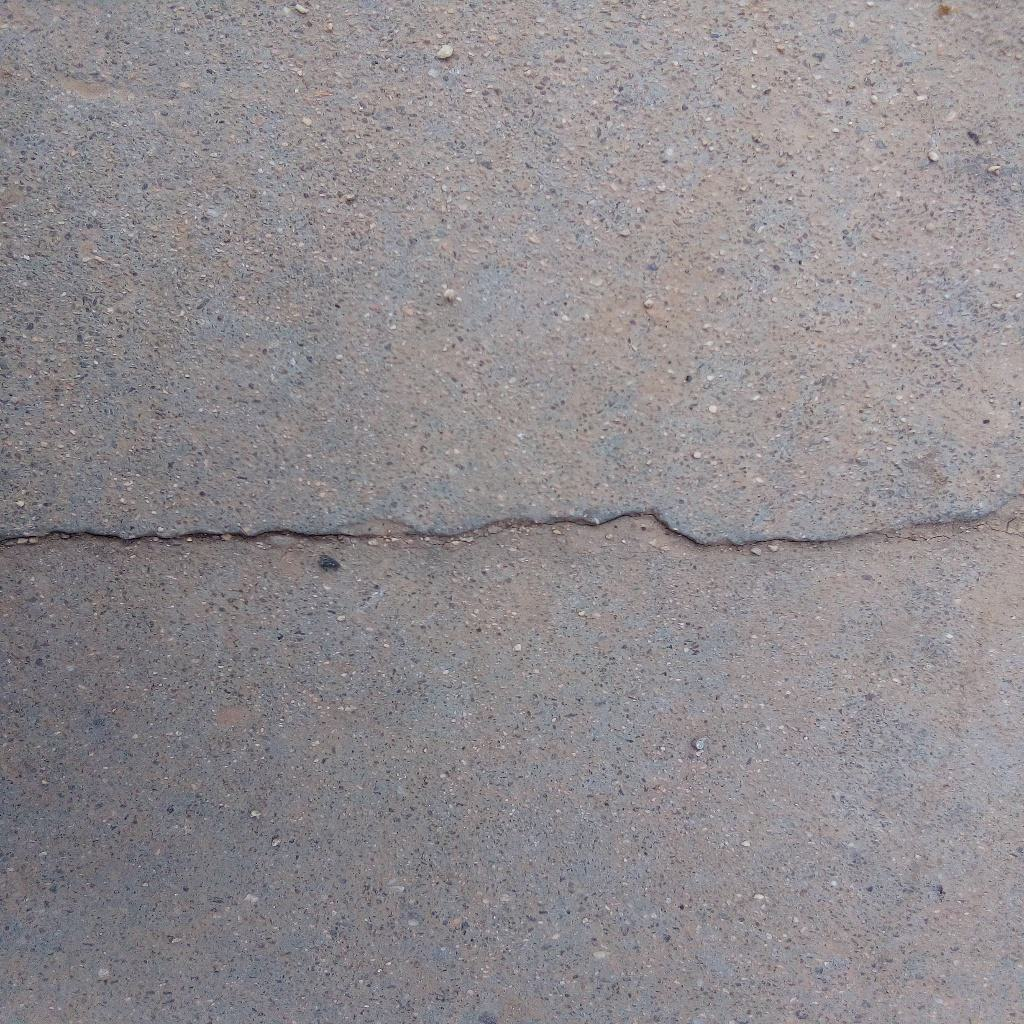Crack: (1, 506, 1024, 561)
